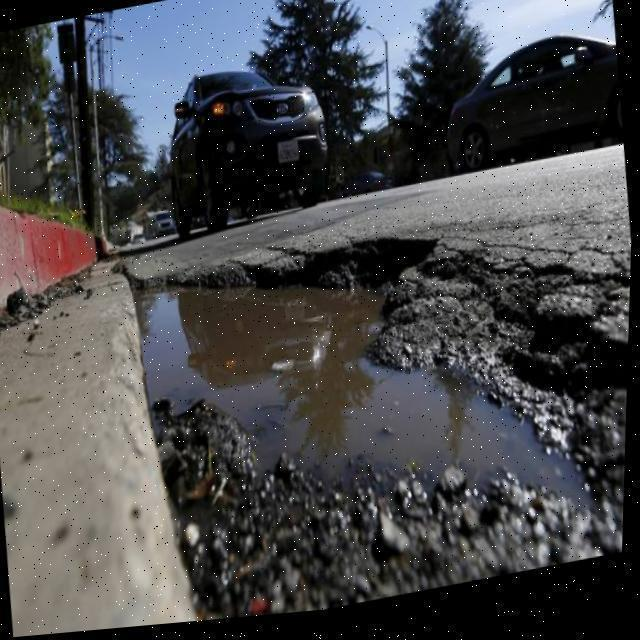Pothole: (112, 216, 637, 622)
